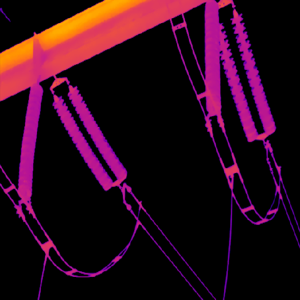insulator: (49, 85, 127, 191), (216, 9, 276, 141), (17, 82, 43, 200), (202, 0, 220, 116)
